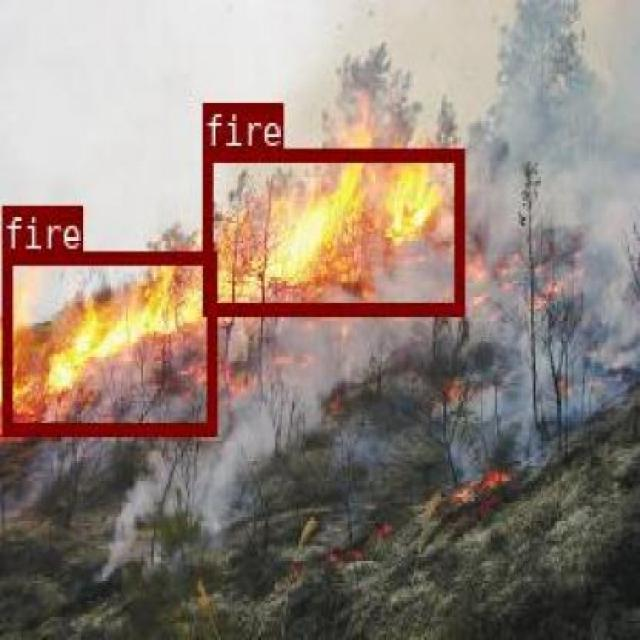fire: (202, 147, 462, 313), (2, 248, 215, 434)
